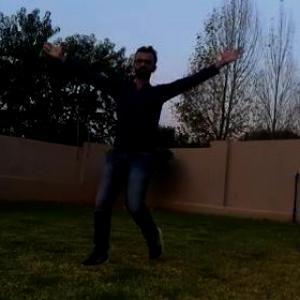takeoff: (42, 38, 239, 254)
